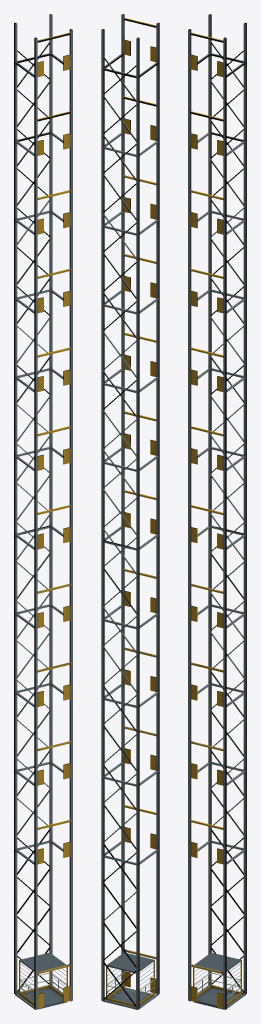
File: elevator.glb
3 renders of one model, left to right at view 1: azimuth 30°, elevation 25°; view 2: azimuth 150°, elevation 25°; view 3: azimuth 330°, elevation 25°, orthographic.
Parts seen in each view (by area): view 1: shaft, cab; view 2: shaft, cab; view 3: shaft, cab.
Part boxes in pixels (bbox=[...]): shaft: bbox=[14, 14, 72, 1009]; cab: bbox=[19, 952, 67, 1009]; shaft: bbox=[101, 14, 159, 1009]; cab: bbox=[106, 952, 154, 1006]; shaft: bbox=[188, 14, 246, 1009]; cab: bbox=[193, 952, 241, 1009].
Bounding box in the file's own units: 2.97 × 74.18 × 2.97.
2 materials, 2 textured.
